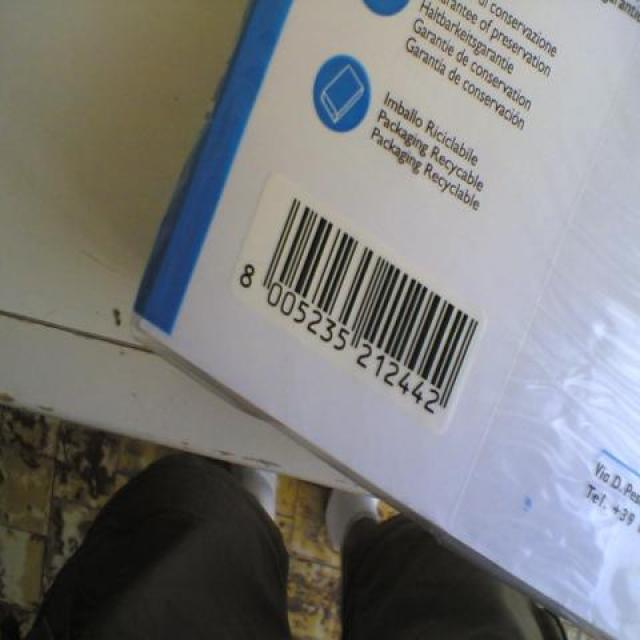Barcode: (227, 171, 490, 437)
